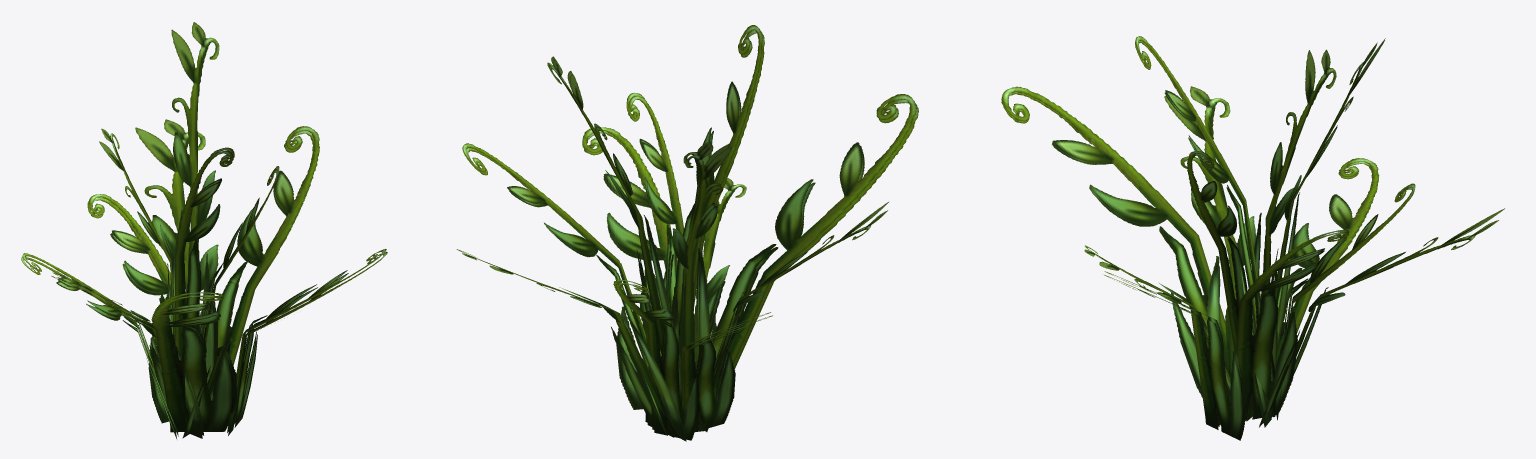
File: PRP_Grass_01_01.FBX
3 views of the same model, side by side, from view 1: azimuth 30°, elevation 25°; view 2: azimuth 150°, elevation 25°; view 3: azimuth 270°, elevation 25° (orthographic). The views are drawn at different scales.
Parts seen in each view (by area): view 1: PRP_Grass_01_01; view 2: PRP_Grass_01_01; view 3: PRP_Grass_01_01.
Boxes of the visible parts, x1,y1,x2,y2 form: PRP_Grass_01_01: [21, 22, 387, 438]; PRP_Grass_01_01: [456, 25, 918, 441]; PRP_Grass_01_01: [1001, 36, 1504, 440].
Size of the model in its own units: 1.25 by 1.23 by 1.45.
